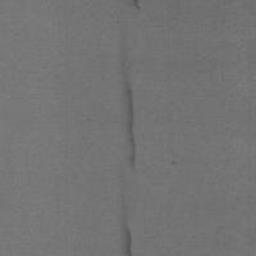Inclusion: (122, 59, 138, 172), (122, 212, 132, 256), (132, 0, 142, 12)
